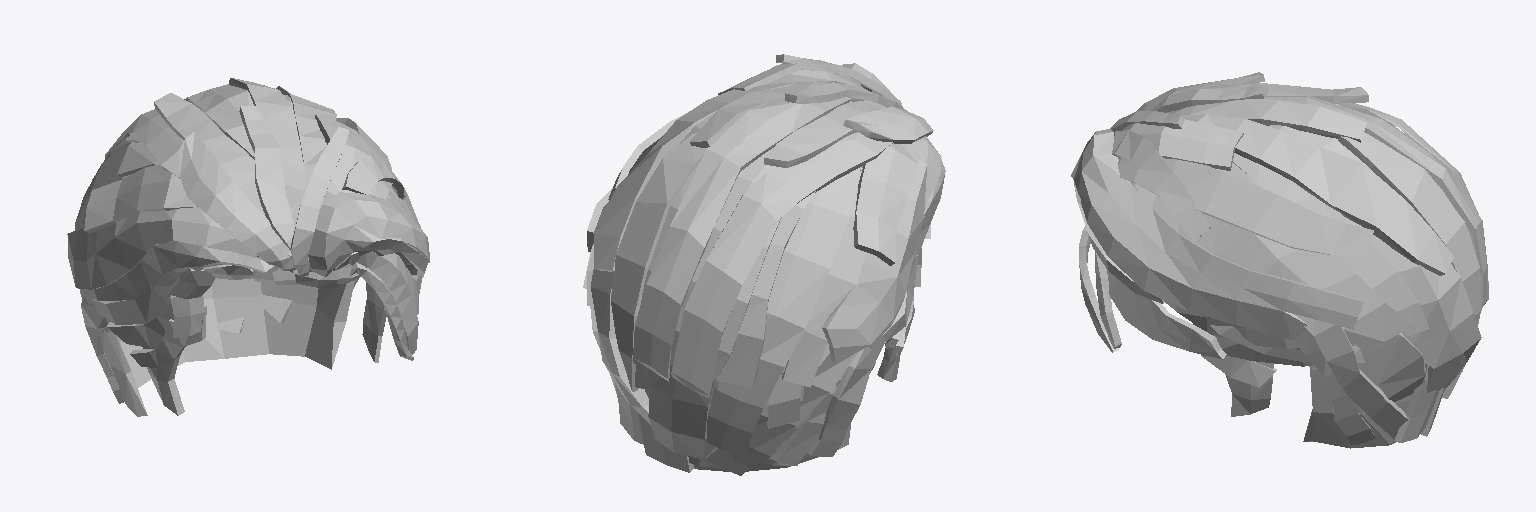
File: hair_05.obj
The picture shows the model from 3 angles: view 1: azimuth 30°, elevation 25°; view 2: azimuth 150°, elevation 25°; view 3: azimuth 270°, elevation 25°; orthographic projection.
Size of the model in its own units: 1.95 by 1.99 by 2.36.